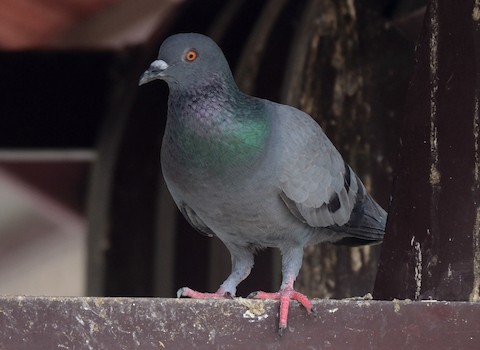pigeon: (123, 29, 401, 333)
